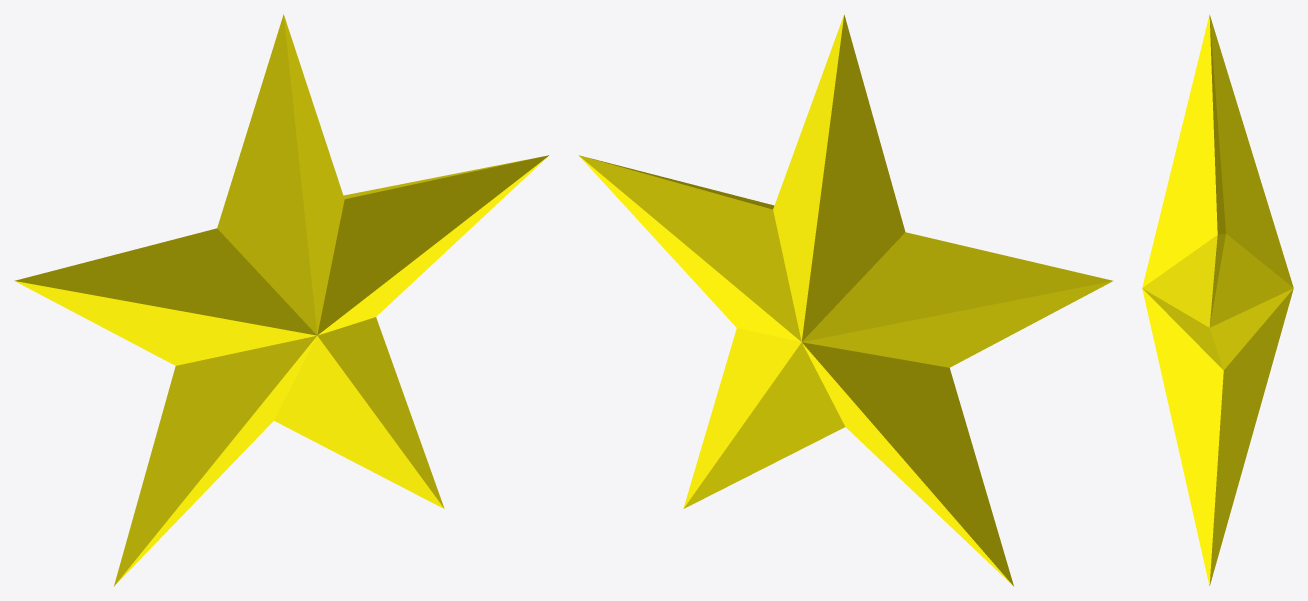
The model's file is star.FBX.
3 views of the same model, side by side, from view 1: azimuth 30°, elevation 25°; view 2: azimuth 150°, elevation 25°; view 3: azimuth 270°, elevation 25° (orthographic). The views are drawn at different scales.
Visible parts, largest first — view 1: Gengon001; view 2: Gengon001; view 3: Gengon001.
Part boxes in pixels (box(x1,y1,x2,y2)): Gengon001: box(14, 14, 548, 586); Gengon001: box(579, 14, 1112, 586); Gengon001: box(1142, 14, 1293, 586).
Bounding box in the file's own units: 22.71 × 21.66 × 5.96.
1 material, 1 textured.
